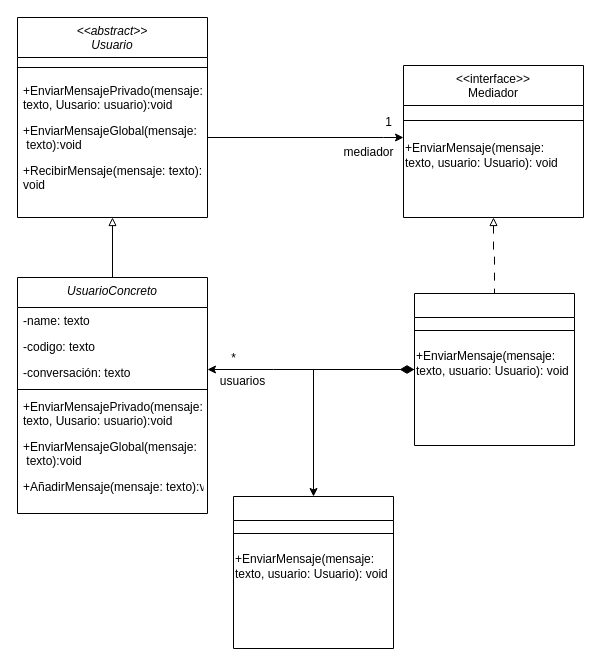
Some shapes in this 601 by 666 pixel diagram are drawn without their labels. Each missing label, with the box of its shape:
BaseDatos: (232, 496, 394, 648)
MediadorConcreto: (414, 292, 574, 446)
